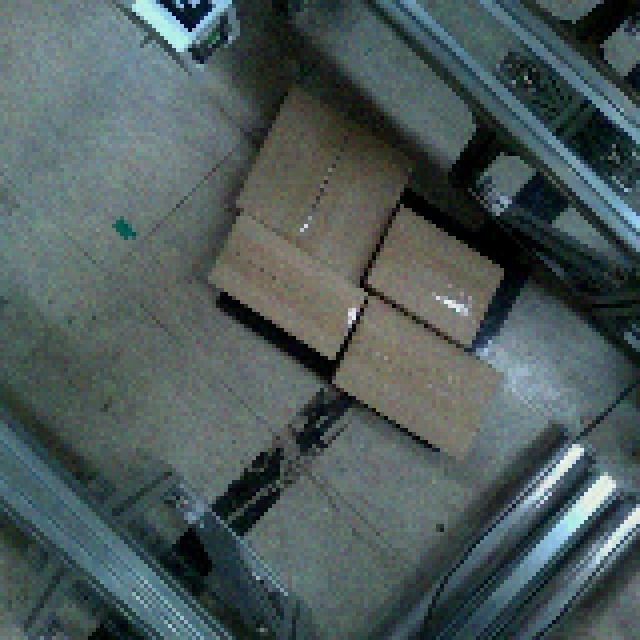box: (198, 57, 448, 304), (302, 266, 528, 488), (187, 186, 386, 382), (340, 182, 527, 366)
